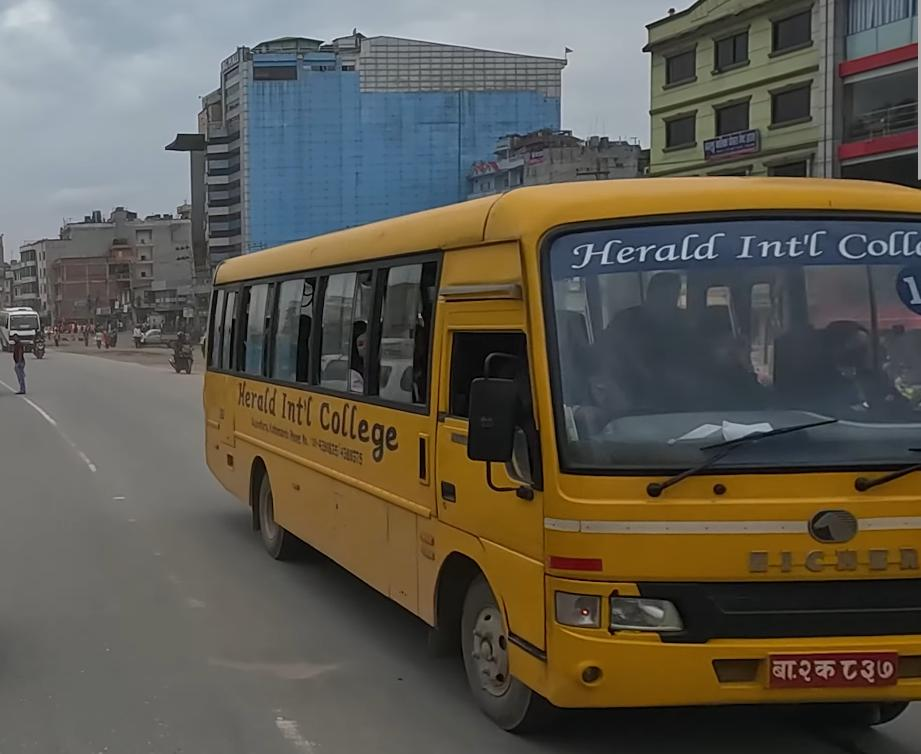school_bus: (194, 169, 921, 731)
